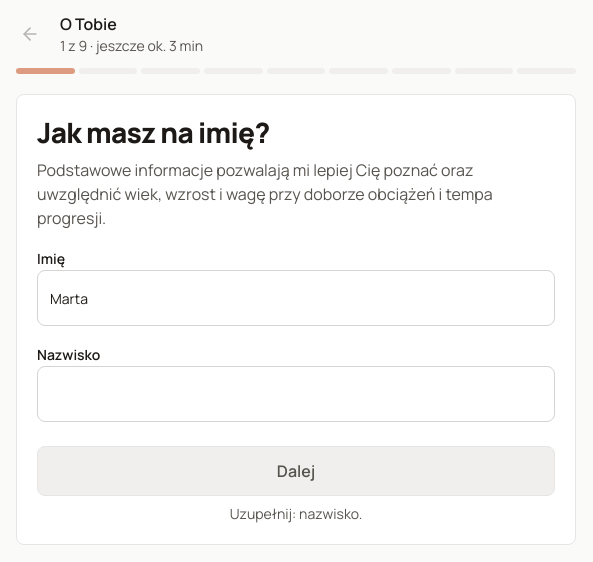
Test: keyboard › Enter = Dalej; focus lands on the question after a step change
The image size is (593, 562).
Type "Test" into the field labelled "Nazwisko" at (296, 394), box 37,366 -> 555,422
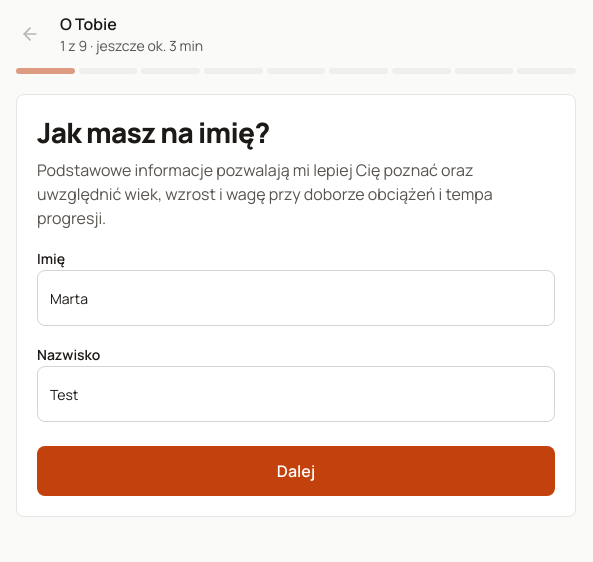
Press Enter in the field labelled "Nazwisko", box 37,366 -> 555,422
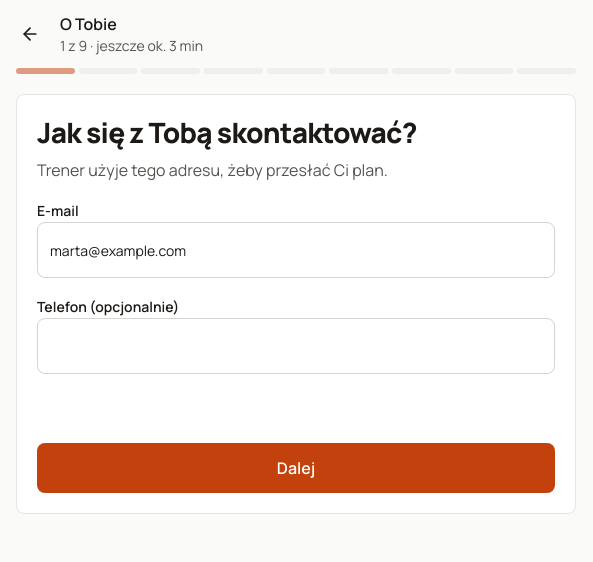
Expected: the heading with test id "question" reads "Jak się z Tobą skontaktować?", 37,113 -> 417,151
